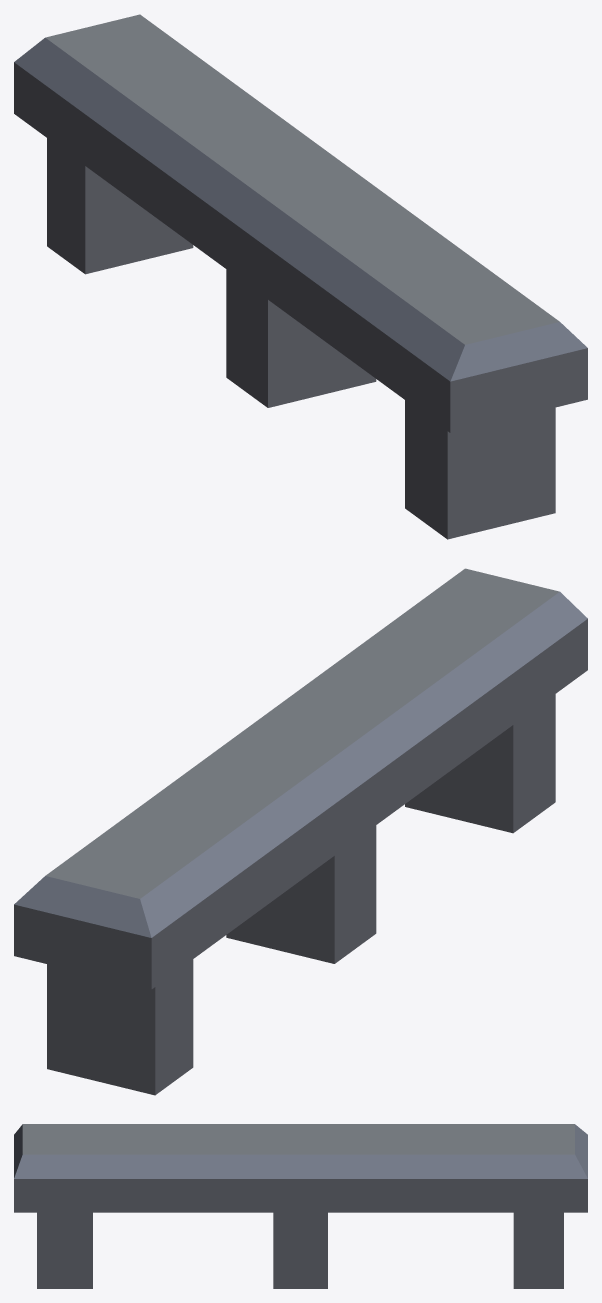
File: wall_acc_06.FBX
3 views of the same model, one above another, from view 1: azimuth 30°, elevation 25°; view 2: azimuth 150°, elevation 25°; view 3: azimuth 270°, elevation 25° (orthographic). The views are drawn at different scales.
Visible parts, largest first — view 1: wall_acc_06; view 2: wall_acc_06; view 3: wall_acc_06.
Boxes of the visible parts, bbox=[...] form: wall_acc_06: bbox=[14, 14, 587, 539]; wall_acc_06: bbox=[14, 568, 587, 1095]; wall_acc_06: bbox=[14, 1124, 587, 1288].
Size of the model in its own units: 17.19 by 24 by 94.45.
